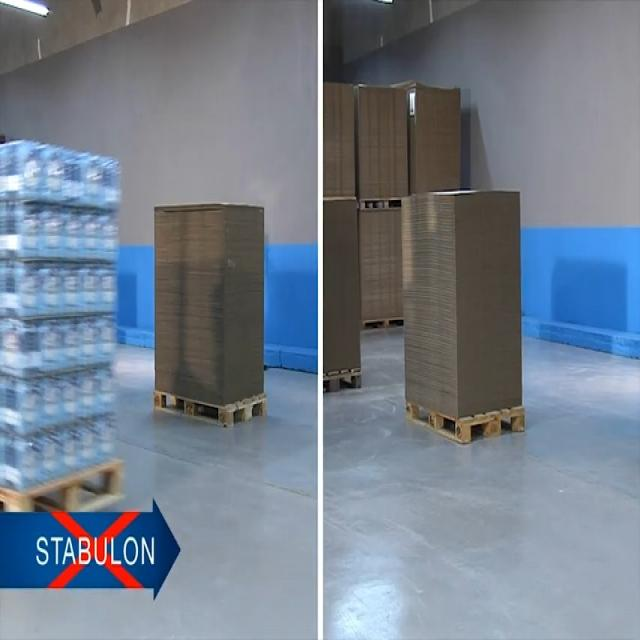Palette: (0, 459, 129, 516), (398, 393, 527, 444), (150, 388, 268, 433), (324, 367, 366, 401), (360, 311, 406, 338), (360, 189, 404, 216)
